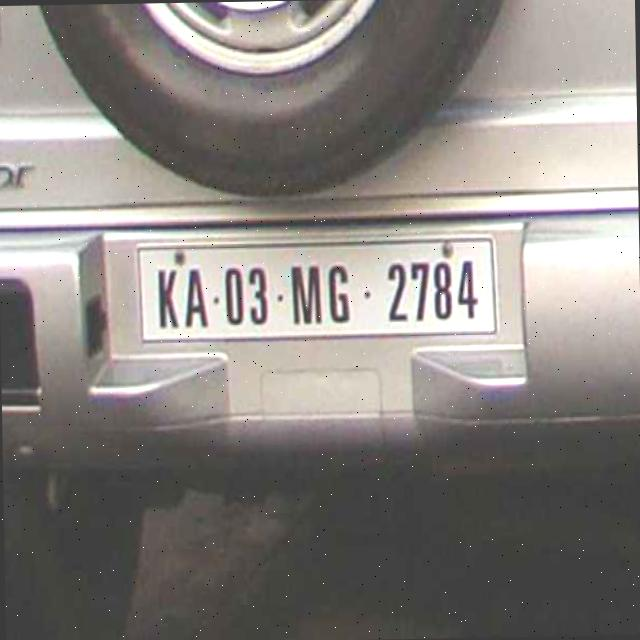Autre: (134, 236, 497, 340)
